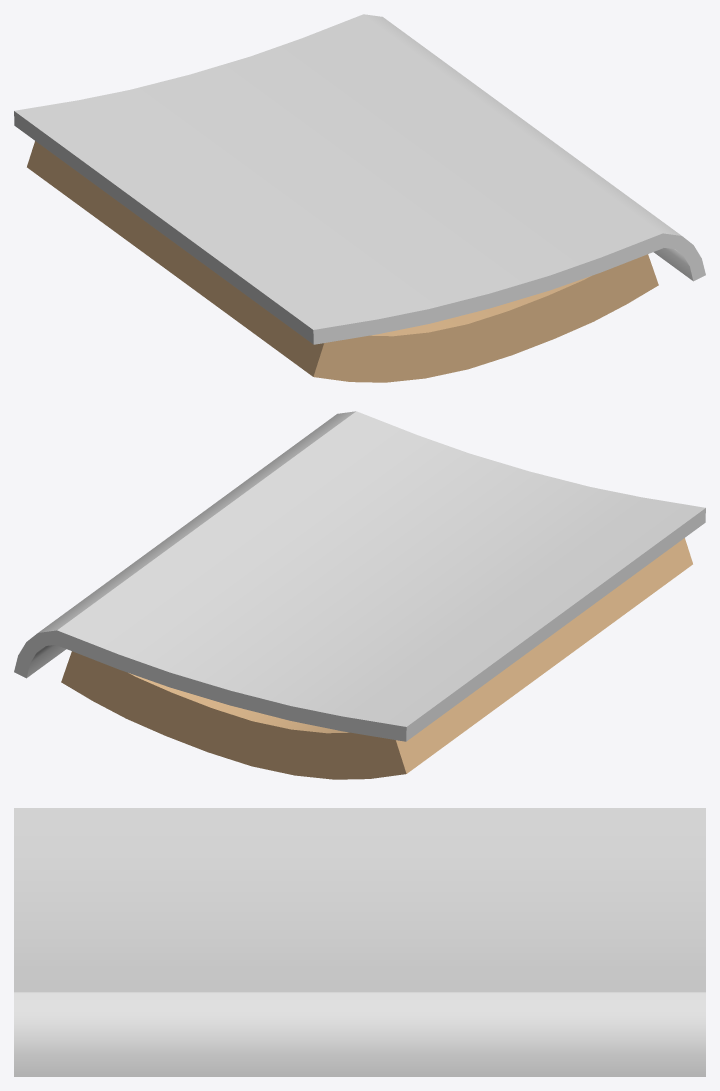
The model's file is OpenBookTop.fbx.
3 renders of one model, top to bottom at view 1: azimuth 30°, elevation 25°; view 2: azimuth 150°, elevation 25°; view 3: azimuth 270°, elevation 25°, orthographic. The views are drawn at different scales.
Parts seen in each view (by area): view 1: Plane.011; view 2: Plane.011; view 3: Plane.011.
Part boxes in pixels (x1,y1,x2,y2): Plane.011: [14, 14, 705, 382]; Plane.011: [14, 411, 705, 779]; Plane.011: [14, 808, 705, 1076].
Size of the model in its own units: 1.21 by 0.2792 by 1.6.
